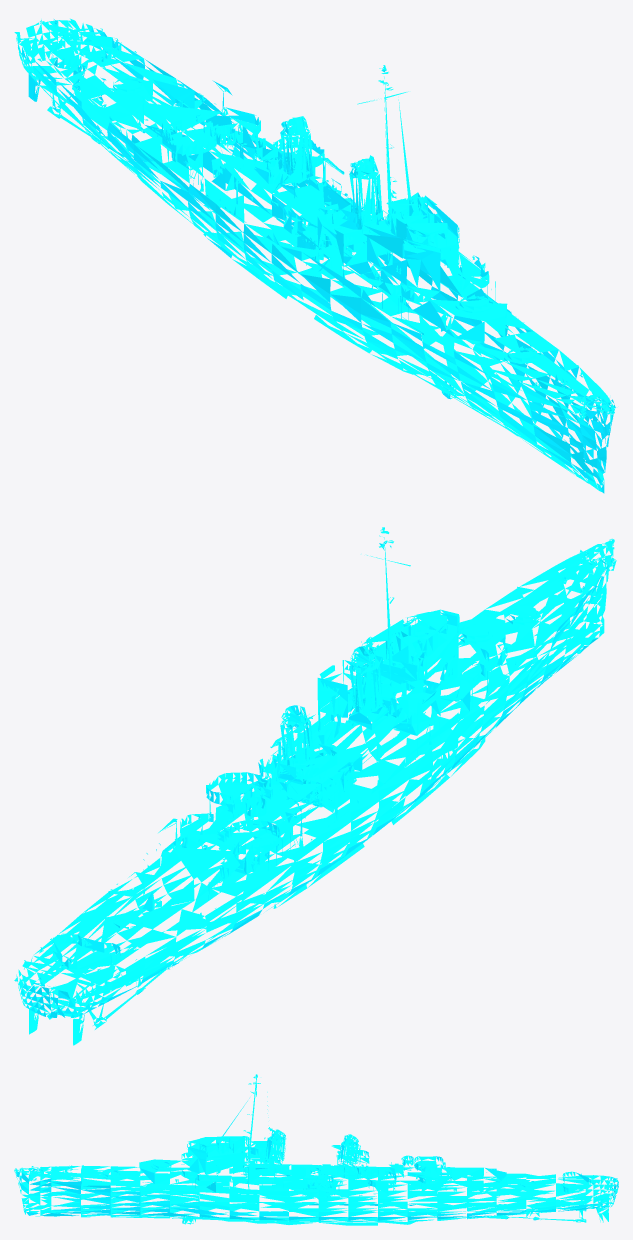
The model's file is Laffey.glb.
3 renders of one model, top to bottom at view 1: azimuth 30°, elevation 25°; view 2: azimuth 150°, elevation 25°; view 3: azimuth 270°, elevation 25°, orthographic. The views are drawn at different scales.
Bounding box in the file's own units: 0.8301 × 2.08 × 7.65.
